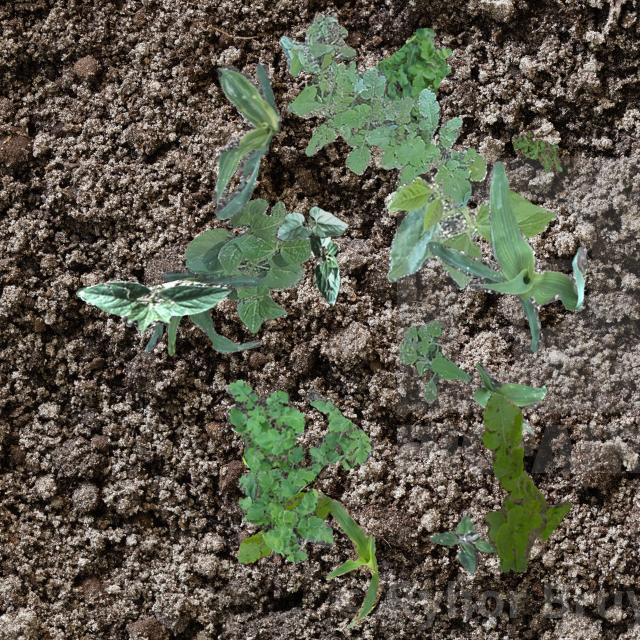crop: (426, 160, 586, 350), (386, 152, 556, 288), (184, 198, 312, 332), (210, 62, 280, 218), (144, 268, 262, 354), (314, 488, 380, 626), (74, 278, 234, 332), (470, 362, 546, 434), (275, 204, 347, 240), (308, 233, 338, 306)
weed: (286, 58, 474, 206), (236, 388, 372, 560), (480, 392, 570, 572), (220, 378, 304, 472), (374, 28, 451, 122), (236, 491, 334, 562), (398, 318, 470, 402), (278, 14, 354, 76), (428, 514, 494, 572), (510, 128, 560, 172)
